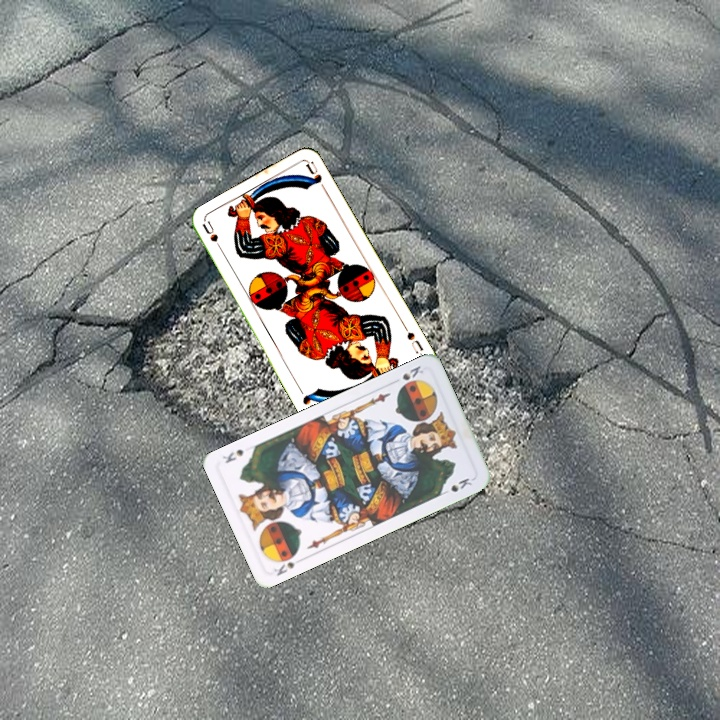SK: (270, 549, 306, 579), (388, 362, 426, 386)
SU: (199, 218, 227, 257), (400, 322, 426, 359)
